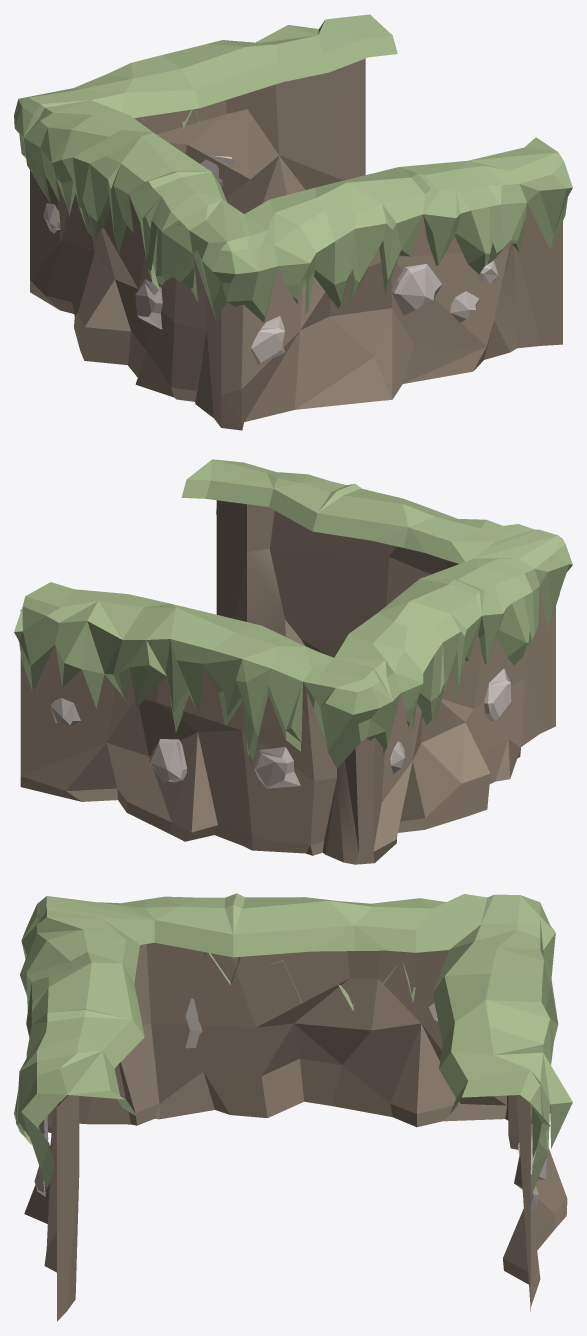
File: ER_Terrain_1x1_Grass3Sided_Halfsize_001_B1.fbx
3 views of the same model, one above another, from view 1: azimuth 30°, elevation 25°; view 2: azimuth 150°, elevation 25°; view 3: azimuth 270°, elevation 25° (orthographic). The views are drawn at different scales.
Visible parts, largest first — view 1: ER_Terrain_1x1_Grass3Sided_Halfsize_001_B1; view 2: ER_Terrain_1x1_Grass3Sided_Halfsize_001_B1; view 3: ER_Terrain_1x1_Grass3Sided_Halfsize_001_B1.
Part boxes in pixels (x1,y1,x2,y2): ER_Terrain_1x1_Grass3Sided_Halfsize_001_B1: (14,14,572,430); ER_Terrain_1x1_Grass3Sided_Halfsize_001_B1: (14,459,572,864); ER_Terrain_1x1_Grass3Sided_Halfsize_001_B1: (14,893,572,1321).
Bounding box in the file's own units: 1.11 × 0.5617 × 1.18.
